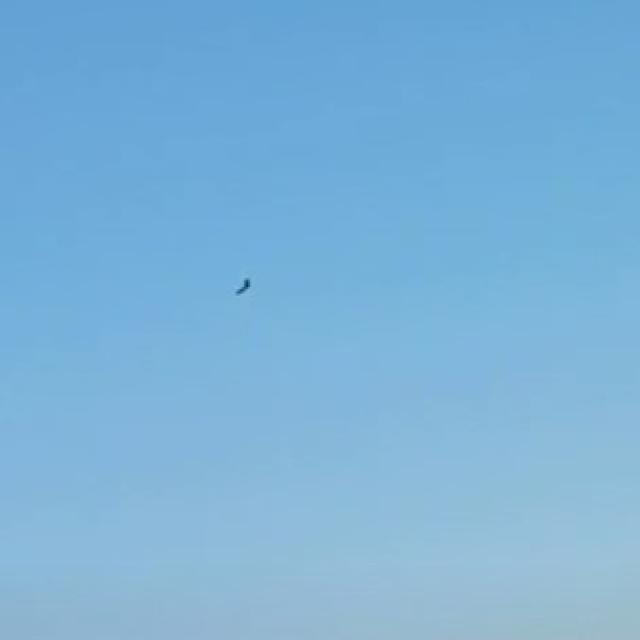iha: (235, 278, 252, 296)
